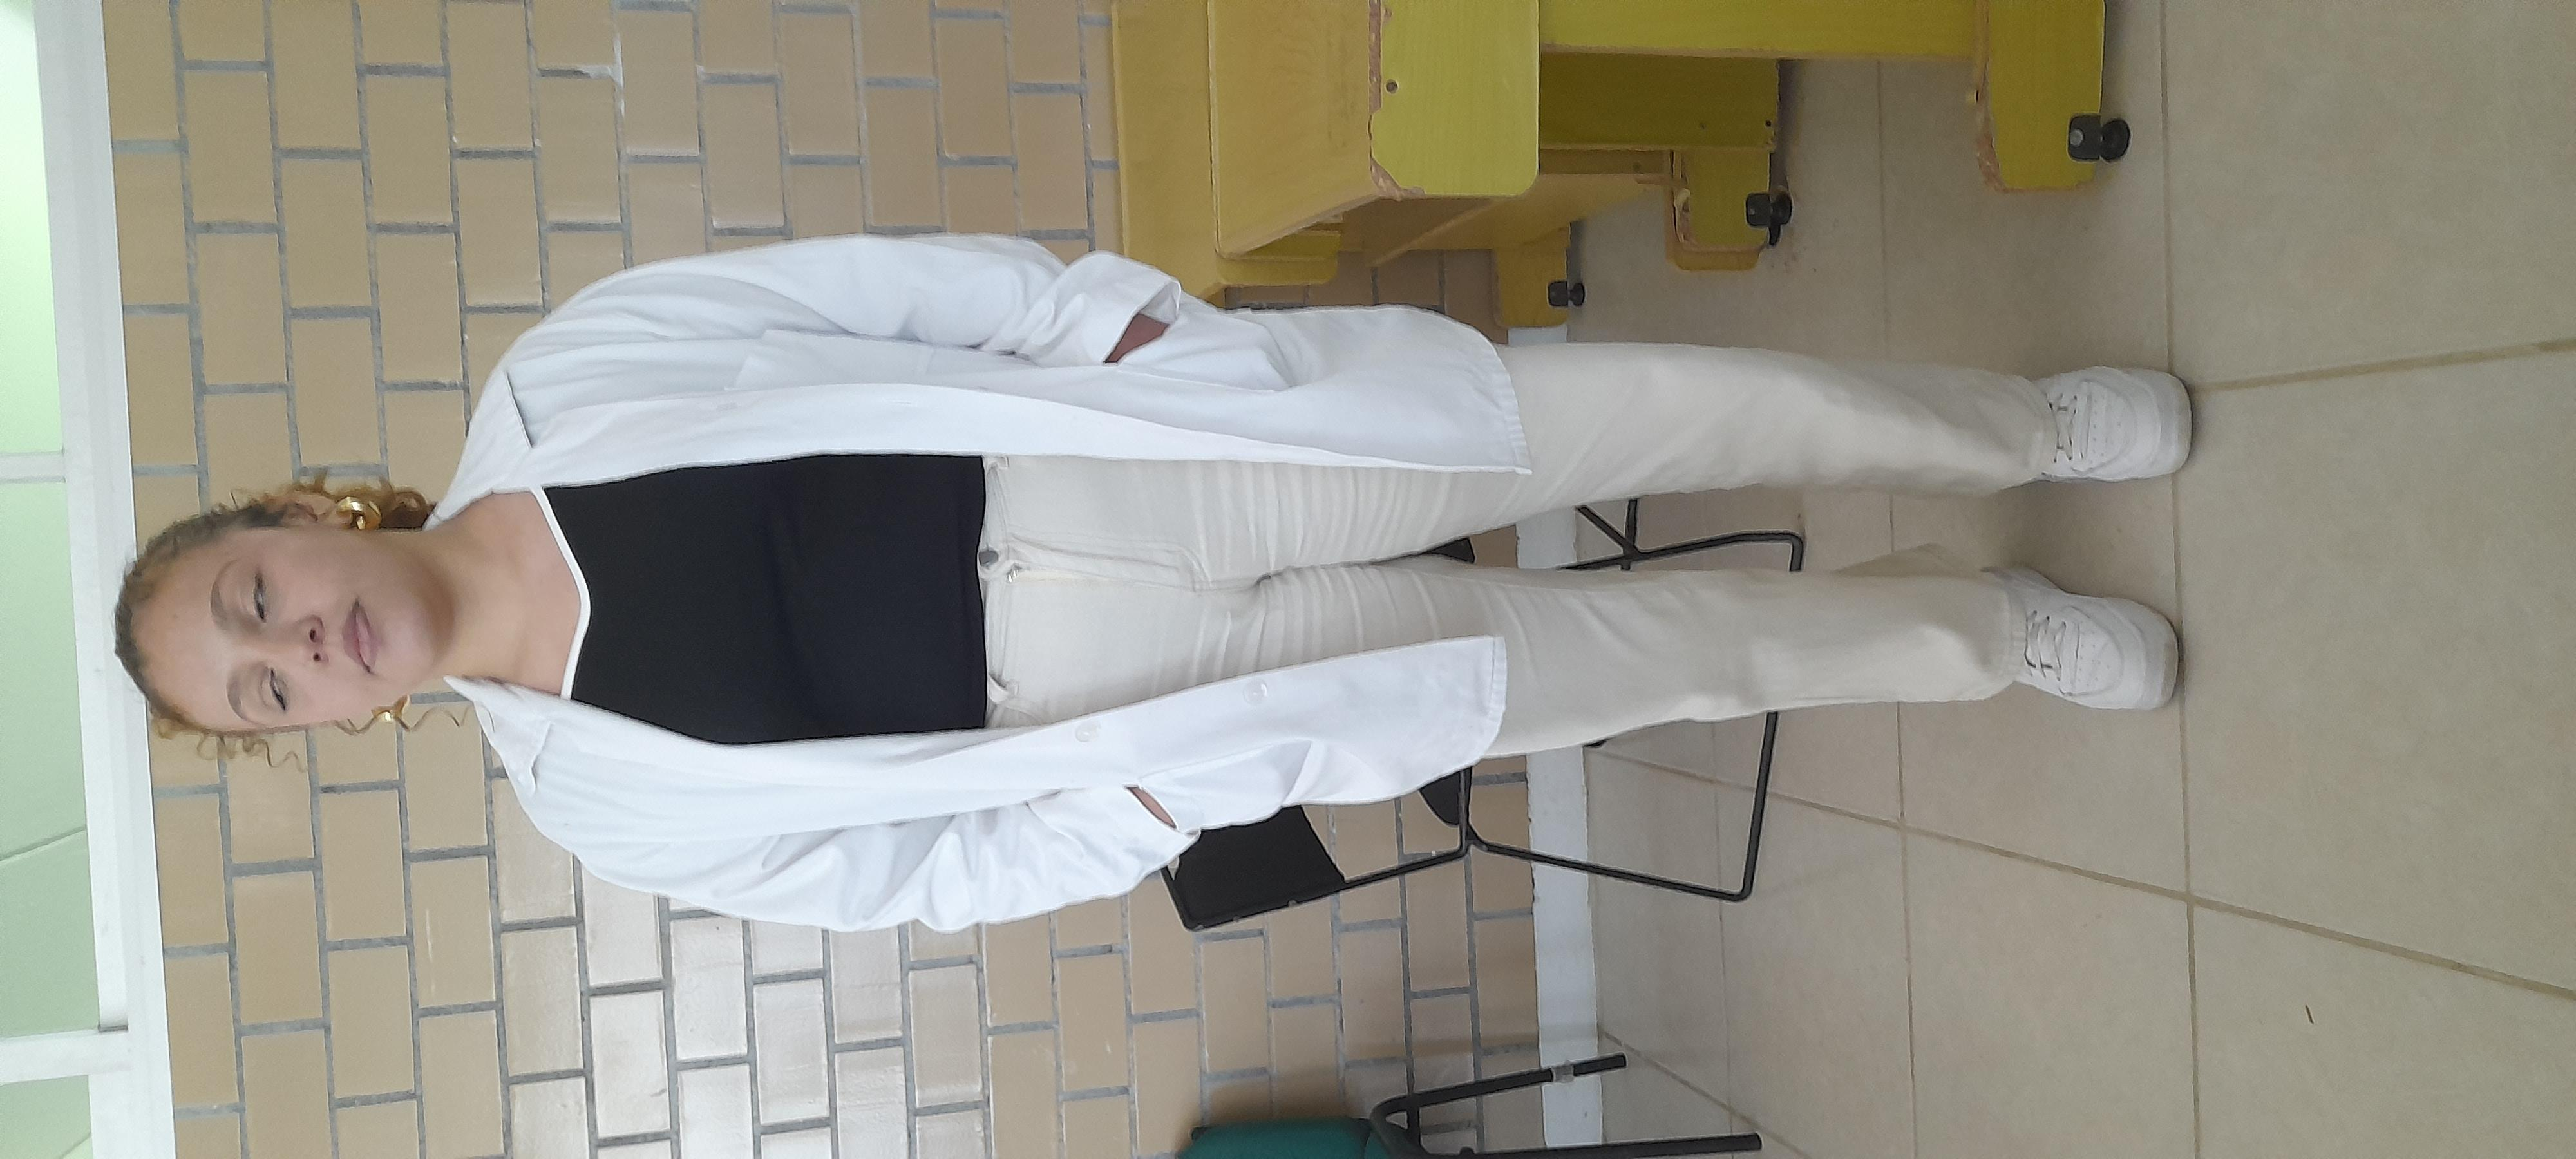Bata-Incorrecta: (416, 38, 2205, 1018)
